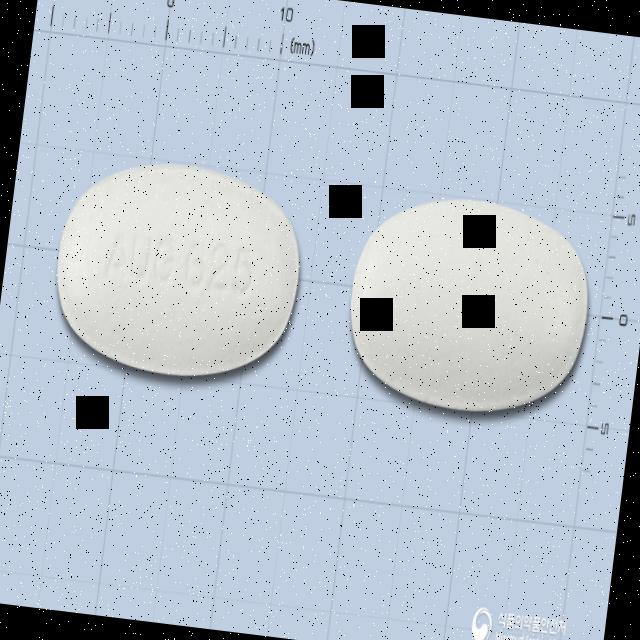Ilsung Augmentin: (45, 150, 312, 390)
